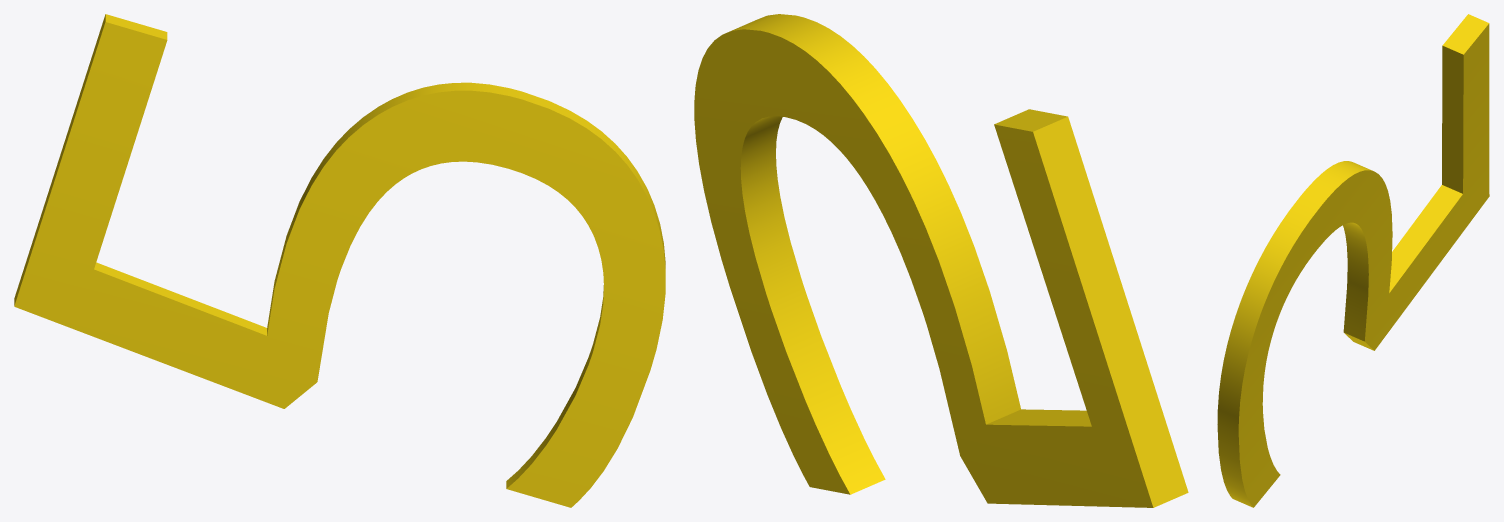
File: Number_5.gltf
The picture shows the model from 3 angles, left to right: view 1: azimuth 30°, elevation 25°; view 2: azimuth 150°, elevation 25°; view 3: azimuth 270°, elevation 25°; orthographic projection. The views are drawn at different scales.
Visible parts, largest first — view 1: Sub_3_Cell_1_1_Number_5; view 2: Sub_3_Cell_1_1_Number_5; view 3: Sub_3_Cell_1_1_Number_5.
Part boxes in pixels (x1,y1,x2,y2): Sub_3_Cell_1_1_Number_5: [14, 14, 665, 507]; Sub_3_Cell_1_1_Number_5: [694, 14, 1188, 507]; Sub_3_Cell_1_1_Number_5: [1217, 14, 1489, 507].
Bounding box in the file's own units: 0.024 × 0.0206 × 0.0139.
